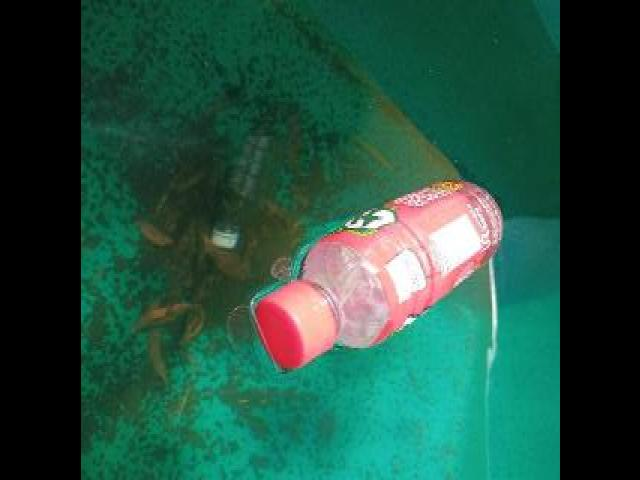Bottle: (248, 176, 503, 370)
